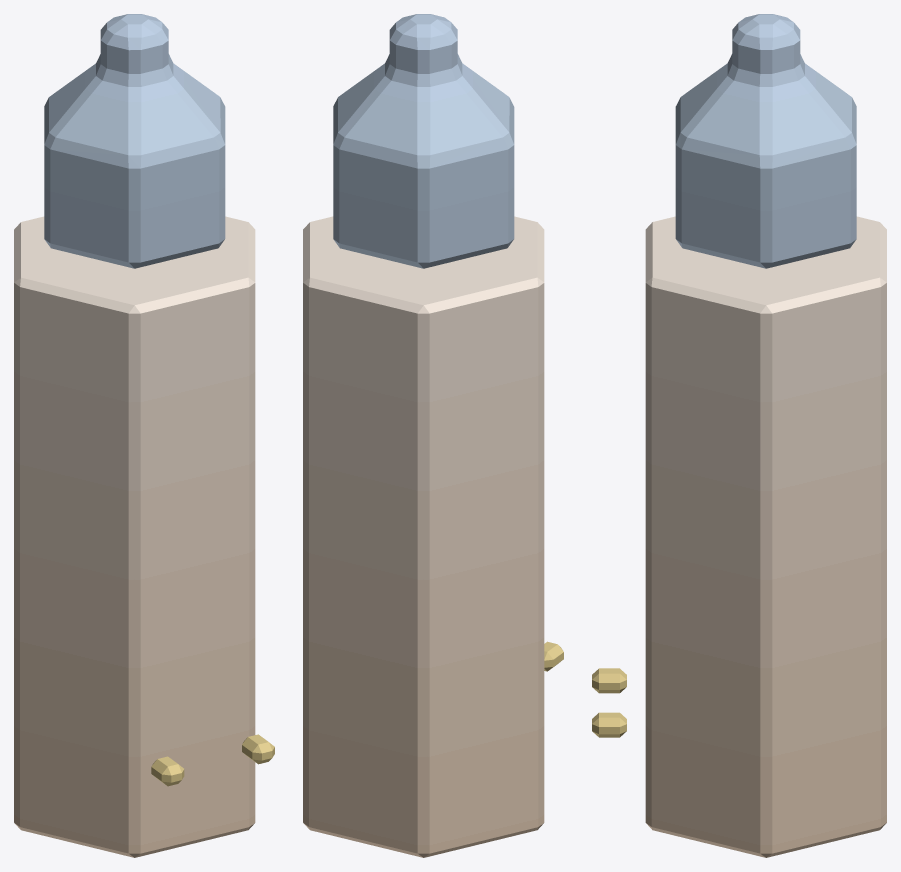
Rendered from gym-cooler.glb.
3 views of the same model, side by side, from view 1: azimuth 30°, elevation 25°; view 2: azimuth 150°, elevation 25°; view 3: azimuth 270°, elevation 25° (orthographic).
Visible parts, largest first — view 1: water_cooler; view 2: water_cooler; view 3: water_cooler.
Boxes of the visible parts, x1,y1,x2,y2 form: water_cooler: [14, 14, 274, 857]; water_cooler: [303, 14, 563, 857]; water_cooler: [592, 14, 886, 857].
Size of the model in its own units: 0.312 by 0.992 by 0.3386.
1 material, 1 textured.
